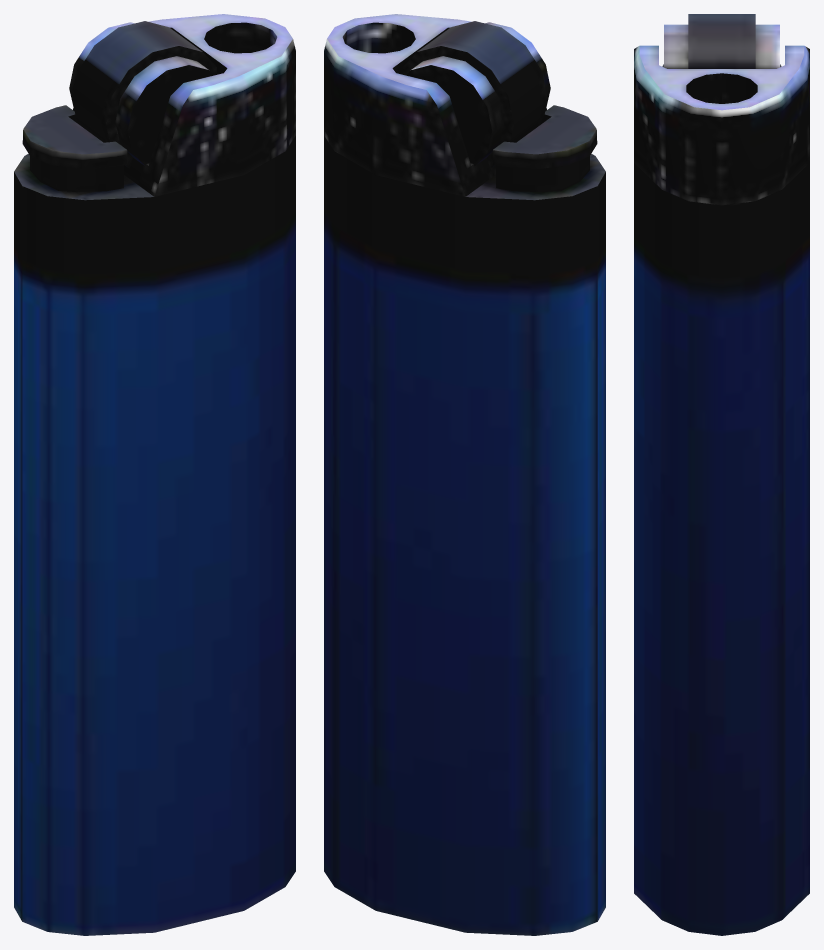
File: fireliter.glb
The picture shows the model from 3 angles, left to right: view 1: azimuth 30°, elevation 25°; view 2: azimuth 150°, elevation 25°; view 3: azimuth 270°, elevation 25°; orthographic projection.
Parts seen in each view (by area): view 1: lighter; view 2: lighter; view 3: lighter.
Part boxes in pixels (box(x1,y1,x2,y2)): lighter: box(14, 14, 295, 935); lighter: box(324, 14, 605, 935); lighter: box(634, 14, 809, 935).
Size of the model in its own units: 0.013 by 0.04 by 0.00752.
Materials: 1 (1 with a texture image).
